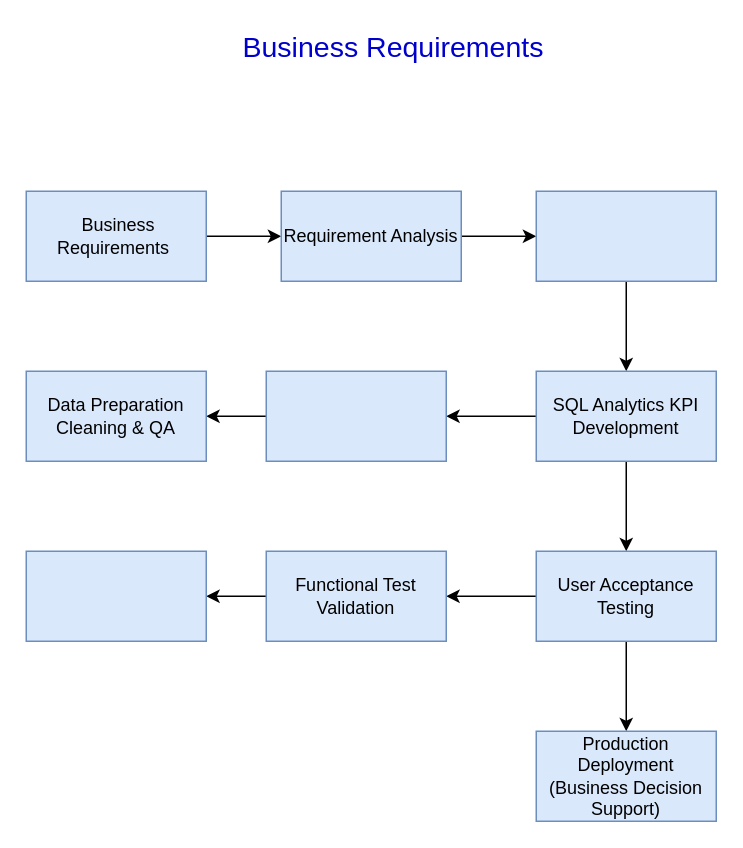
Some shapes in this 743 by 848 pixel diagram are drawn without their labels. Each missing label, with the box of its shape:
Data Collection Excel Dataset: (535, 190, 716, 281)
Looker Studio Dashboards: (25, 550, 206, 641)
MYSQL Database Central Repository: (265, 370, 446, 461)
